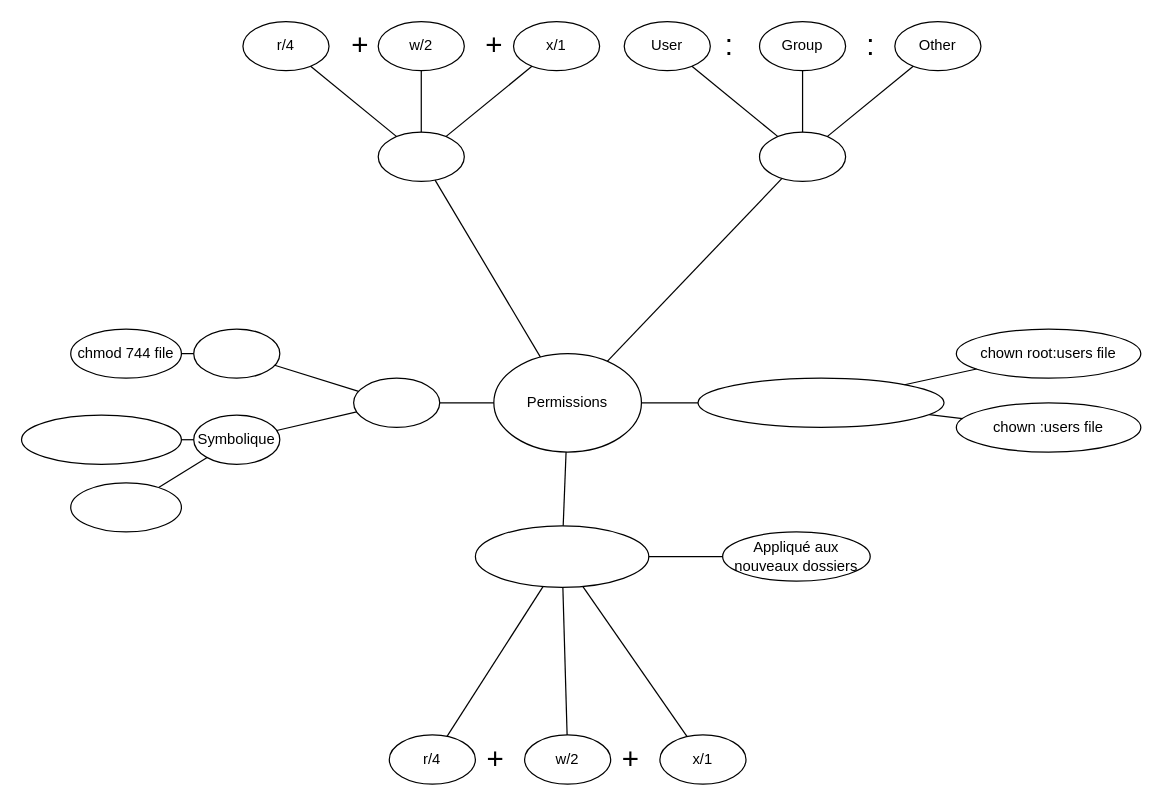
Some shapes in this 1162 by 806 pixel diagram are drawn without their labels. The centre of each missing label's shape, as x and y in pixels:
chmod: pixel 396 402
chmod +x file: pixel 125 507
chmod u=rwx go=r file: pixel 100 439
chown owner:group file/directory: pixel 820 402
Cibles: pixel 802 156
Droits: pixel 420 156
octale: pixel 236 353
umask (calcul en droit inversé): pixel 561 556
